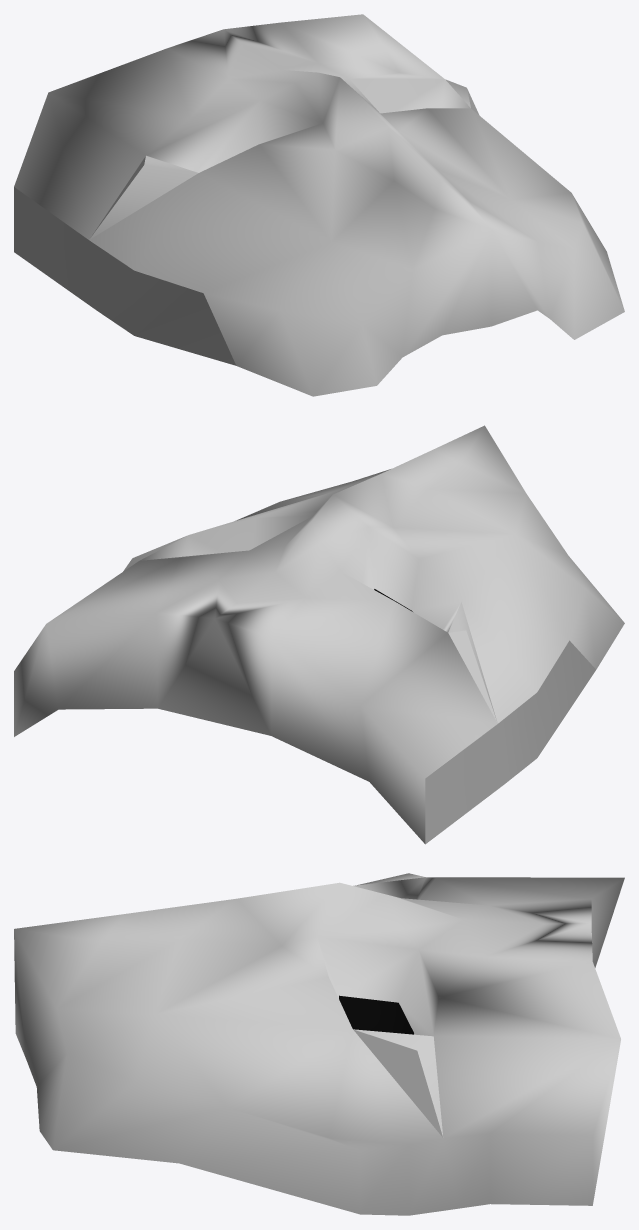
The model's file is Mask_03.fbx.
The picture shows the model from 3 angles, top to bottom: view 1: azimuth 30°, elevation 25°; view 2: azimuth 150°, elevation 25°; view 3: azimuth 270°, elevation 25°; orthographic projection. The views are drawn at different scales.
Parts seen in each view (by area): view 1: Mask_03; view 2: Mask_03; view 3: Mask_03.
Part boxes in pixels (x1,y1,x2,y2): Mask_03: [14, 14, 624, 396]; Mask_03: [14, 425, 624, 844]; Mask_03: [14, 873, 624, 1215].
Size of the model in its own units: 1933 by 959 by 2324.
